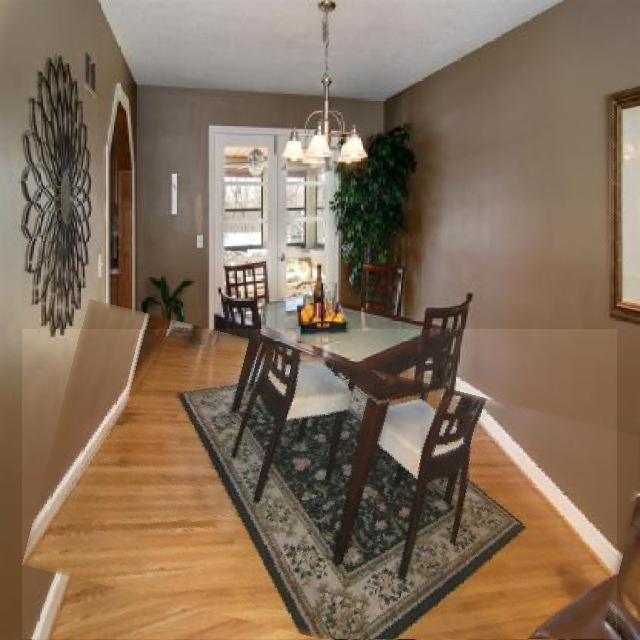floor: (23, 329, 617, 640)
